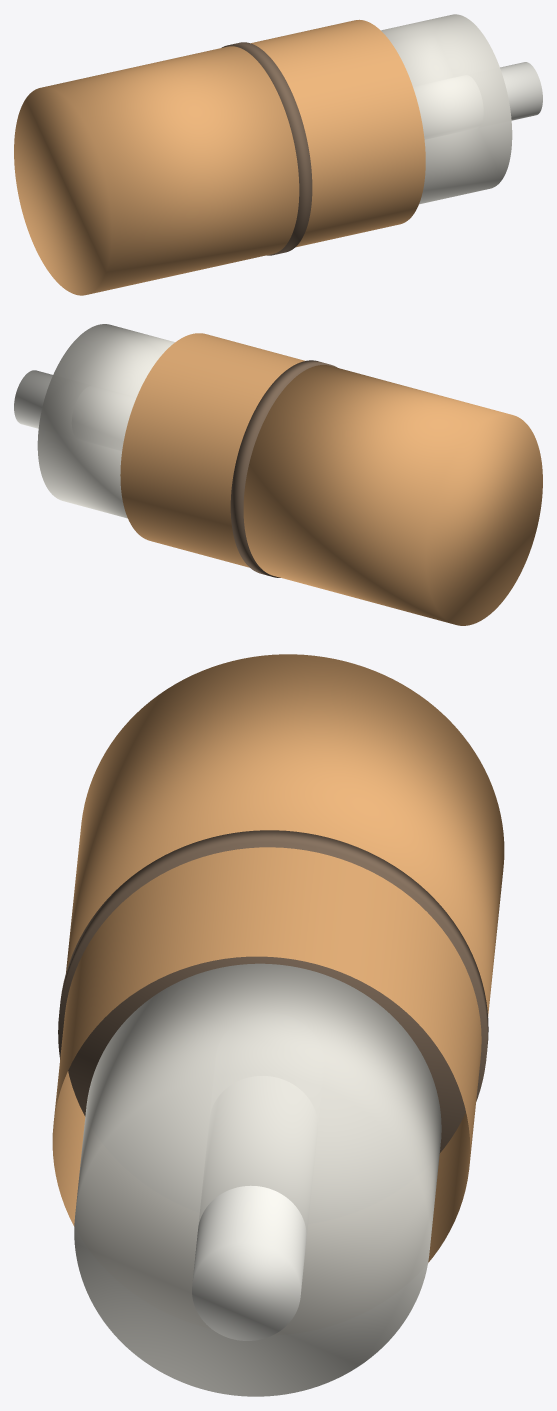
3 renders of one model, top to bottom at view 1: azimuth 30°, elevation 25°; view 2: azimuth 150°, elevation 25°; view 3: azimuth 270°, elevation 25°, orthographic. The views are drawn at different scales.
Visible parts, largest first — view 1: rear solid outer conductor tube, exposed solid outer conductor sleeve, ptfe dielectric core, outer conductor cut lip, solid center conductor continuous; view 2: rear solid outer conductor tube, exposed solid outer conductor sleeve, ptfe dielectric core, outer conductor cut lip, solid center conductor continuous; view 3: ptfe dielectric core, rear solid outer conductor tube, exposed solid outer conductor sleeve, outer conductor cut lip, solid center conductor continuous.
Boxes of the visible parts, left/top/right/bottom form: rear solid outer conductor tube: left=14, top=46, right=299, bottom=295; exposed solid outer conductor sleeve: left=251, top=19, right=425, bottom=247; ptfe dielectric core: left=381, top=14, right=512, bottom=204; outer conductor cut lip: left=221, top=42, right=312, bottom=255; solid center conductor continuous: left=500, top=62, right=542, bottom=120; rear solid outer conductor tube: left=243, top=365, right=542, bottom=625; exposed solid outer conductor sleeve: left=120, top=333, right=304, bottom=567; ptfe dielectric core: left=37, top=324, right=174, bottom=518; outer conductor cut lip: left=230, top=360, right=337, bottom=577; solid center conductor continuous: left=14, top=370, right=52, bottom=428; ptfe dielectric core: left=74, top=963, right=441, bottom=1396; rear solid outer conductor tube: left=66, top=654, right=504, bottom=1016; exposed solid outer conductor sleeve: left=52, top=847, right=481, bottom=1262; outer conductor cut lip: left=58, top=830, right=488, bottom=1153; solid center conductor continuous: left=192, top=1185, right=306, bottom=1340.
Bounding box in the file's own units: 6.05 × 2.44 × 2.57.
